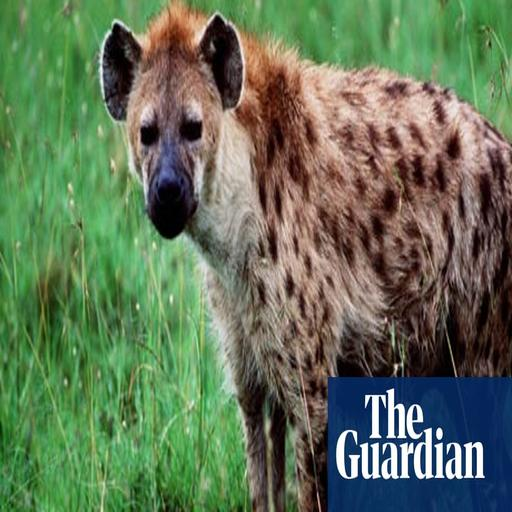Hyena: (96, 1, 512, 512)
